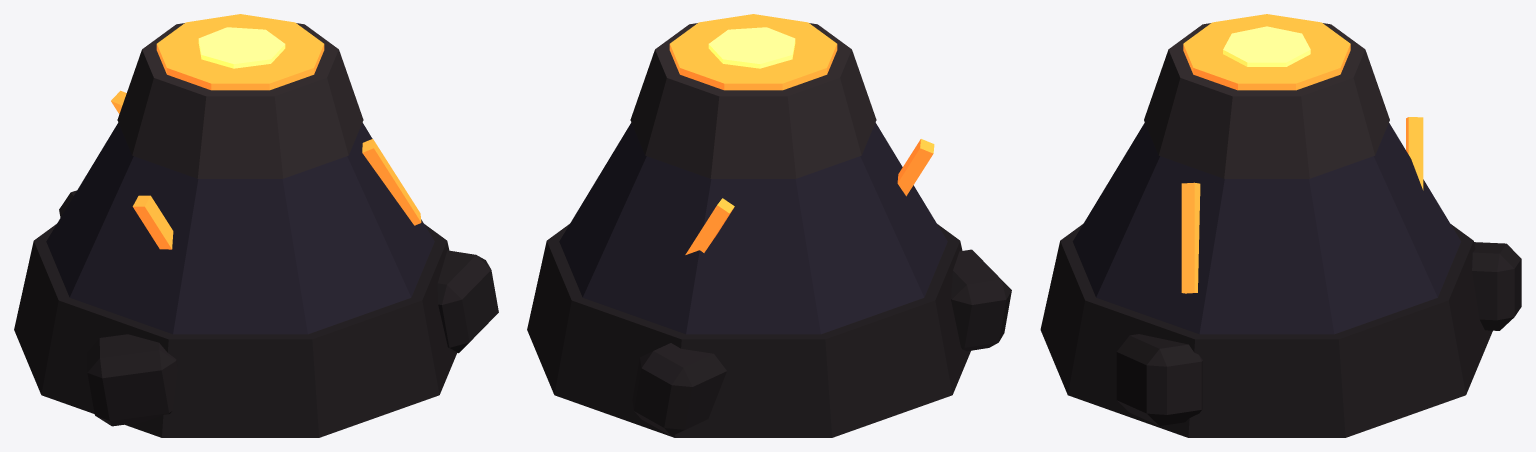
The model's file is vent.glb.
3 views of the same model, side by side, from view 1: azimuth 30°, elevation 25°; view 2: azimuth 150°, elevation 25°; view 3: azimuth 270°, elevation 25° (orthographic).
Parts seen in each view (by area): view 1: vent; view 2: vent; view 3: vent.
Boxes of the visible parts, left/top/right/bottom form: vent: left=14, top=14, right=498, bottom=437; vent: left=527, top=14, right=1011, bottom=437; vent: left=1040, top=14, right=1521, bottom=437.
Size of the model in its own units: 0.9377 by 0.665 by 0.9622.
